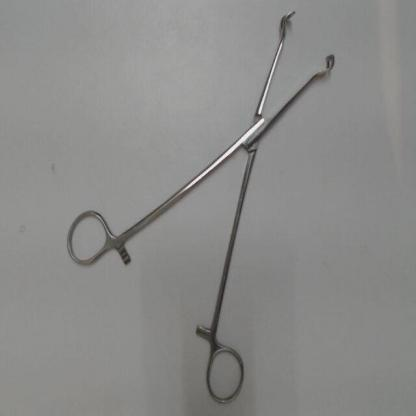8 Babcock Tissue Forceps: (60, 3, 340, 409)
